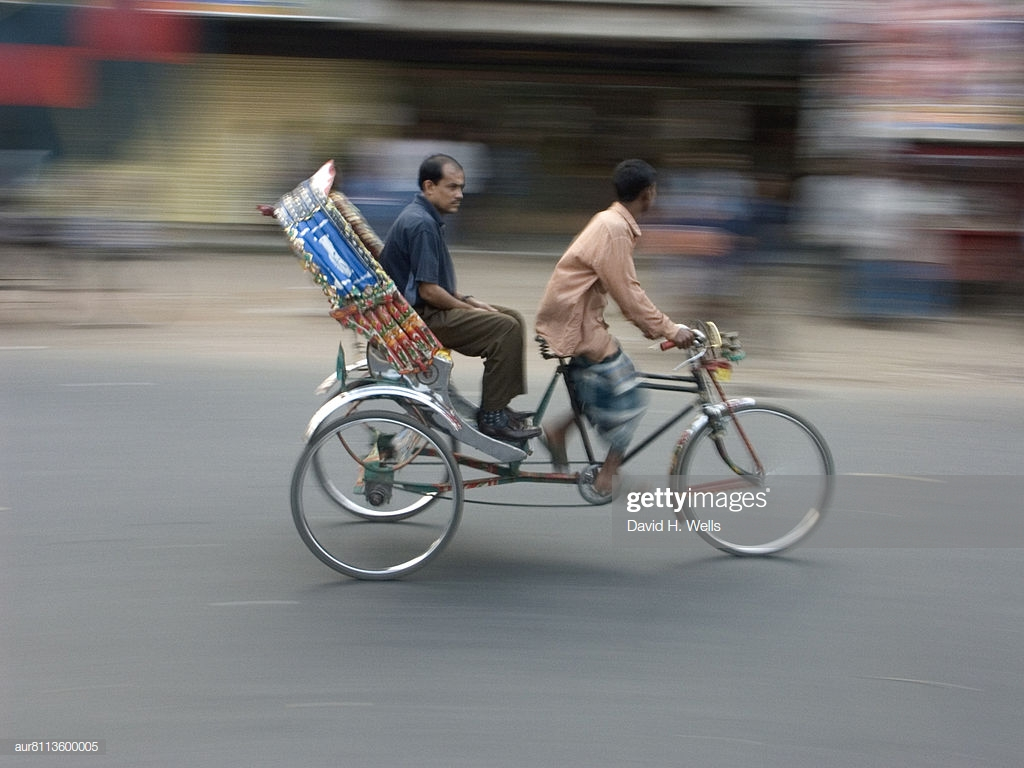Rickshaw: (270, 127, 832, 601)
